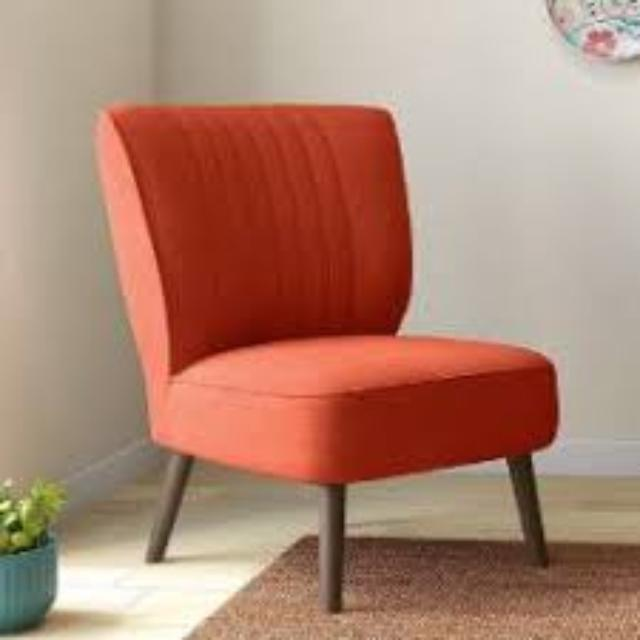obstacle: (45, 52, 635, 610)
